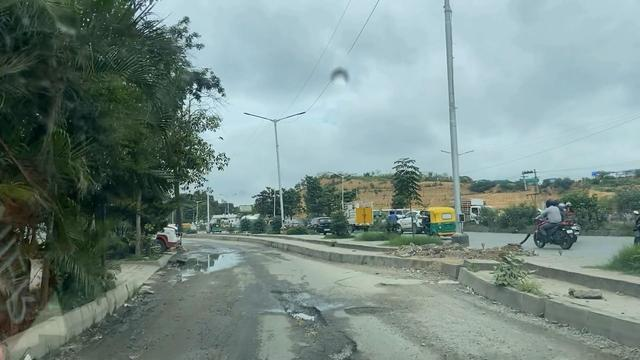RoadDamages: (261, 284, 333, 334), (288, 336, 361, 360), (373, 274, 449, 292), (341, 297, 398, 319)
